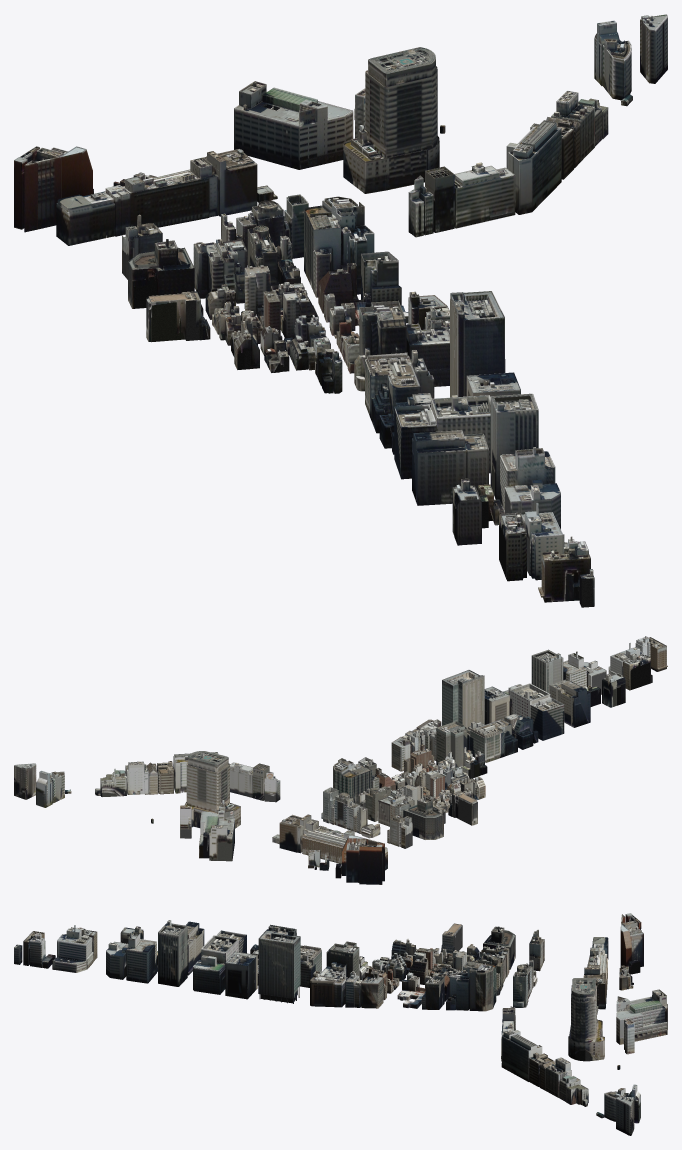
Rendered from 53394622_bldg_6677.fbx.
The picture shows the model from 3 angles, top to bottom: view 1: azimuth 30°, elevation 25°; view 2: azimuth 150°, elevation 25°; view 3: azimuth 270°, elevation 25°; orthographic projection. The views are drawn at different scales.
Parts seen in each view (by area): view 1: plateau_merged.167, plateau_merged.193, plateau_merged.067, plateau_merged.027, plateau_merged.196, plateau_merged.024, plateau_merged.126, plateau_merged.107, plateau_merged.195, plateau_merged.141, plateau_merged.103, plateau_merged.073 (+27 smaller); view 2: plateau_merged.167, plateau_merged.196, plateau_merged.067, plateau_merged.193, plateau_merged.027, plateau_merged.024, plateau_merged.032, plateau_merged.008, plateau_merged.141, plateau_merged.073, plateau_merged.154, plateau_merged.103 (+29 smaller); view 3: plateau_merged.196, plateau_merged.167, plateau_merged.193, plateau_merged.103, plateau_merged.026, plateau_merged.132, plateau_merged.073, plateau_merged.058, plateau_merged.126, plateau_merged.144, plateau_merged.067, plateau_merged.154 (+25 smaller).
Boxes of the visible parts, bbox=[...] form: plateau_merged.167: bbox=[343, 47, 439, 193]; plateau_merged.193: bbox=[234, 81, 353, 169]; plateau_merged.067: bbox=[14, 146, 92, 232]; plateau_merged.027: bbox=[412, 430, 488, 505]; plateau_merged.196: bbox=[450, 291, 505, 397]; plateau_merged.024: bbox=[122, 157, 218, 227]; plateau_merged.126: bbox=[506, 120, 561, 214]; plateau_merged.107: bbox=[56, 185, 130, 245]; plateau_merged.195: bbox=[454, 162, 515, 228]; plateau_merged.141: bbox=[128, 239, 194, 308]; plateau_merged.103: bbox=[490, 393, 538, 499]; plateau_merged.073: bbox=[304, 196, 364, 290]; plateau_merged.167: bbox=[184, 751, 240, 828]; plateau_merged.196: bbox=[442, 670, 484, 728]; plateau_merged.067: bbox=[342, 835, 384, 884]; plateau_merged.193: bbox=[199, 806, 234, 861]; plateau_merged.027: bbox=[549, 679, 590, 727]; plateau_merged.024: bbox=[302, 819, 354, 863]; plateau_merged.032: bbox=[469, 719, 511, 762]; plateau_merged.008: bbox=[530, 697, 564, 740]; plateau_merged.141: bbox=[403, 797, 443, 839]; plateau_merged.073: bbox=[333, 758, 372, 803]; plateau_merged.154: bbox=[436, 721, 467, 767]; plateau_merged.103: bbox=[531, 649, 563, 692]; plateau_merged.196: bbox=[258, 924, 300, 1003]; plateau_merged.167: bbox=[568, 978, 604, 1061]; plateau_merged.193: bbox=[616, 989, 667, 1044]; plateau_merged.103: bbox=[158, 920, 187, 986]; plateau_merged.026: bbox=[52, 925, 93, 972]; plateau_merged.132: bbox=[225, 951, 257, 999]; plateau_merged.073: bbox=[463, 960, 496, 1011]; plateau_merged.058: bbox=[126, 932, 157, 983]; plateau_merged.126: bbox=[501, 1030, 542, 1081]; plateau_merged.144: bbox=[193, 955, 225, 994]; plateau_merged.067: bbox=[620, 913, 643, 967]; plateau_merged.154: bbox=[326, 941, 359, 978].
Bounding box in the file's own units: 55551 × 9133 × 81287.
Materials: 210 (210 with a texture image).
